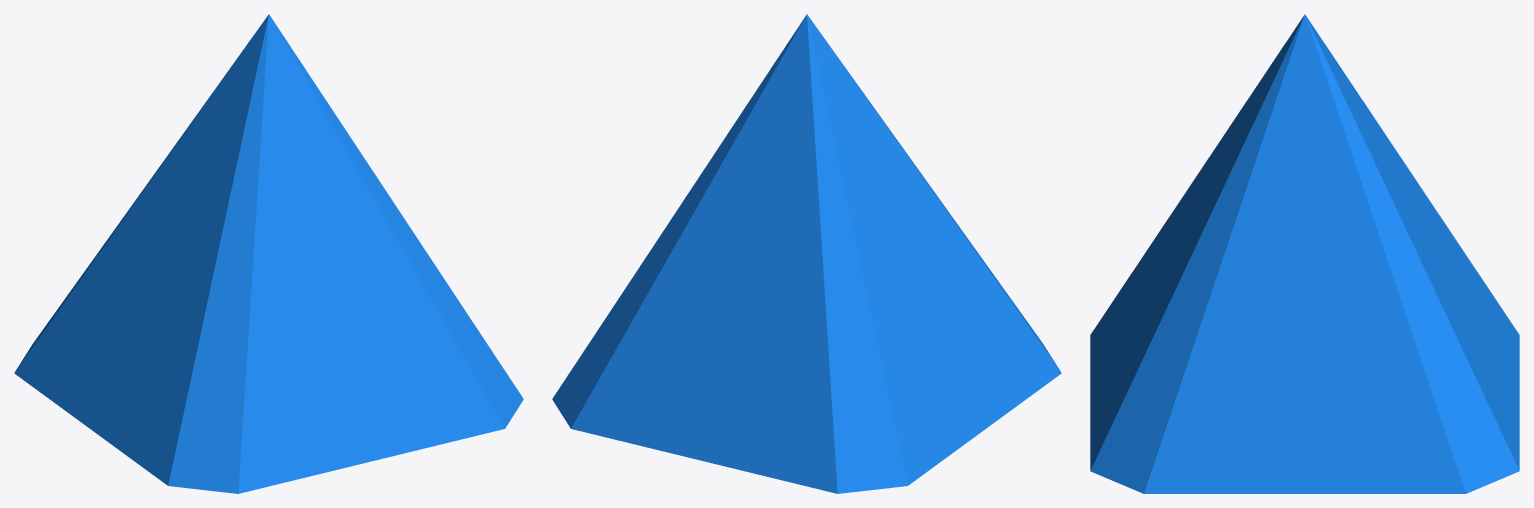
File: Proto_Block_Top_Point_Octagon_02.fbx
3 renders of one model, left to right at view 1: azimuth 30°, elevation 25°; view 2: azimuth 150°, elevation 25°; view 3: azimuth 270°, elevation 25°, orthographic. The views are drawn at different scales.
Parts seen in each view (by area): view 1: Proto_Block_Top_Point_Octagon_02; view 2: Proto_Block_Top_Point_Octagon_02; view 3: Proto_Block_Top_Point_Octagon_02.
Part boxes in pixels (x1,y1,x2,y2): Proto_Block_Top_Point_Octagon_02: (14, 14, 523, 493); Proto_Block_Top_Point_Octagon_02: (552, 14, 1061, 493); Proto_Block_Top_Point_Octagon_02: (1090, 14, 1519, 493).
Bounding box in the file's own units: 1 × 1 × 1.
